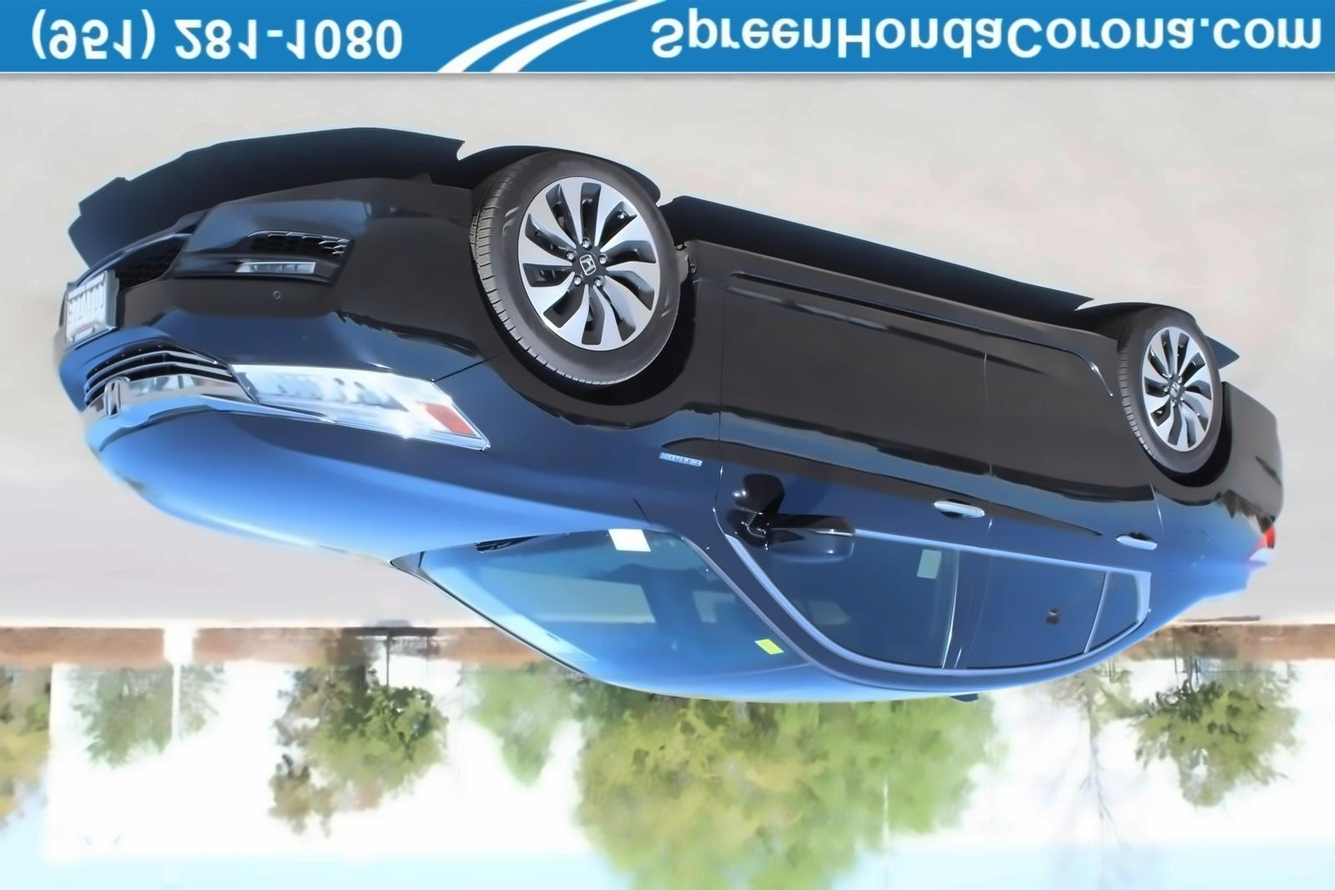Car hood: (78, 394, 646, 578)
Driver-s door - -F-R-: (702, 199, 990, 692)
Fender - -F-R-: (394, 327, 697, 551)
Fender - -R-R-: (1099, 431, 1253, 611)
Front bumper: (39, 157, 479, 378)
Passenger-s door - -R-R-: (935, 220, 1175, 699)
Rear bumper: (1178, 371, 1319, 569)
Side bumper - -R-: (654, 206, 1138, 422)
Side mirror - -R-: (719, 476, 800, 542)
